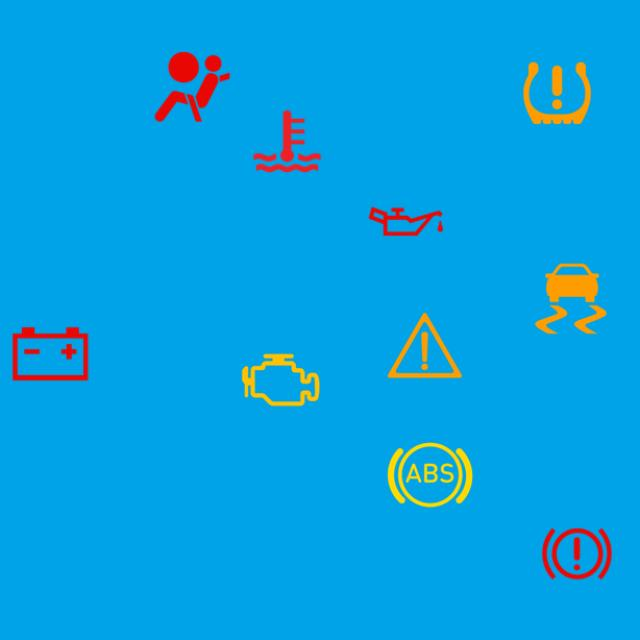Anti Lock Braking System: (384, 428, 476, 522)
Braking System Issue: (530, 508, 624, 600)
Charging System Issue: (4, 308, 97, 400)
Check Engine: (235, 334, 328, 426)
Electronic Stability Problem -ESP-: (524, 252, 617, 345)
Engine Overheating Warning Light: (240, 94, 334, 188)
Low Engine Oil Warning Light: (360, 175, 452, 268)
Low Tire Pressure Warning Light: (511, 47, 604, 140)
Master warning light: (378, 299, 472, 392)
SRS-Airbag: (146, 40, 239, 134)
